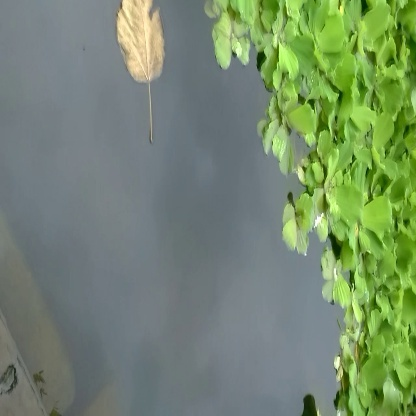leaf: (112, 1, 183, 147)
